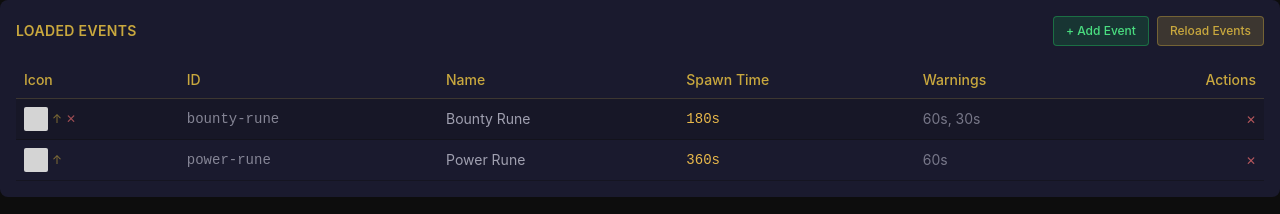
Test case: EventConfigPanel › reload button updates displayed events
Expected: the text "Bounty Rune" is shown, [438,98,678,140]
Click the button "Reload Events" at x=1210, y=31, box [1157,16,1264,46]
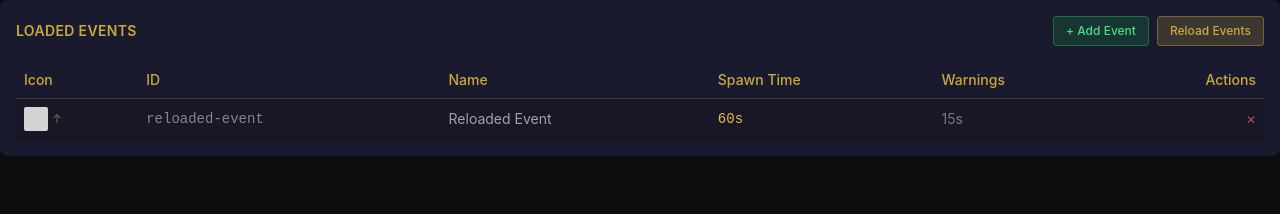
Now the text "Reloaded Event" is shown, box [440,98,710,140]
Now the text "reloaded-event" is shown, box [138,98,440,140]
